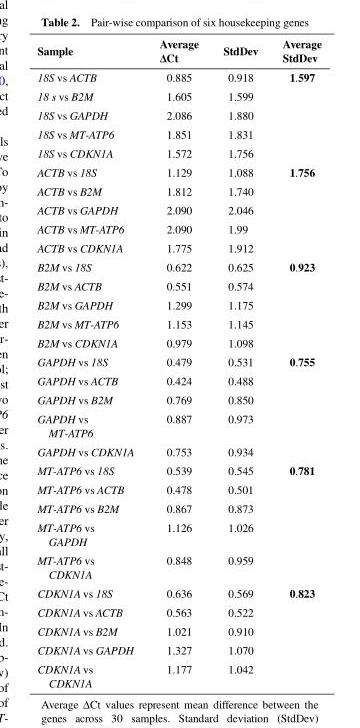table: (36, 36, 320, 688)
table column: (36, 36, 146, 688), (146, 36, 210, 688), (210, 36, 269, 688), (269, 36, 320, 688)
table column header: (36, 36, 320, 67)
table row: (36, 408, 320, 441), (36, 517, 320, 550), (36, 550, 320, 583), (36, 36, 320, 67), (36, 659, 320, 688), (36, 256, 320, 276), (36, 67, 320, 86), (36, 86, 320, 105), (36, 105, 320, 124), (36, 124, 320, 143), (36, 143, 320, 162), (36, 162, 320, 181), (36, 181, 320, 200), (36, 200, 320, 219), (36, 219, 320, 238), (36, 276, 320, 295), (36, 313, 320, 332), (36, 332, 320, 351), (36, 351, 320, 370), (36, 370, 320, 389), (36, 389, 320, 408), (36, 441, 320, 460), (36, 460, 320, 479), (36, 479, 320, 498), (36, 498, 320, 517), (36, 583, 320, 602), (36, 602, 320, 621), (36, 621, 320, 640), (36, 640, 320, 659), (36, 238, 320, 256), (36, 295, 320, 313)
table spanning cell: (269, 460, 320, 583), (269, 351, 320, 460), (269, 583, 320, 688), (269, 67, 320, 162), (269, 256, 320, 351), (269, 162, 320, 256)
